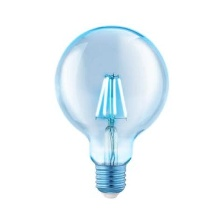light_bulb: (52, 22, 170, 208)
